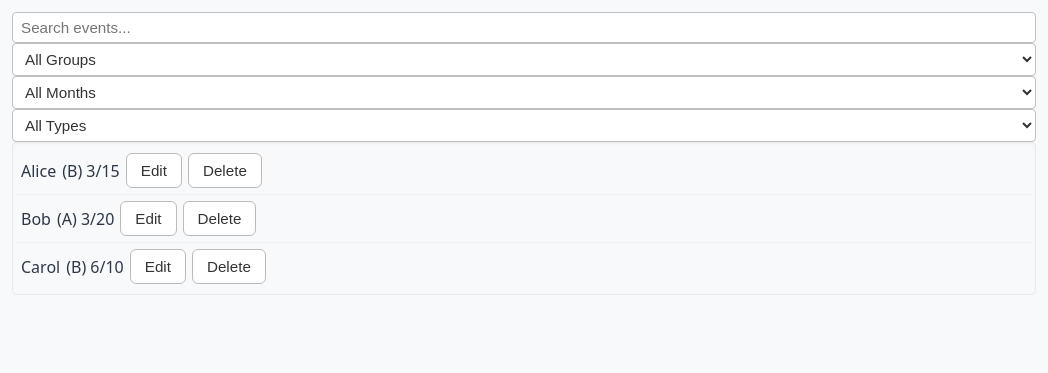
EventList › edit button opens inline editor
What coordinates should you click on to do the following:
click the button "Edit" next to "(B) 3/15"
I would click on:
 (154, 170)
Its box is left=126, top=153, right=182, bottom=188.
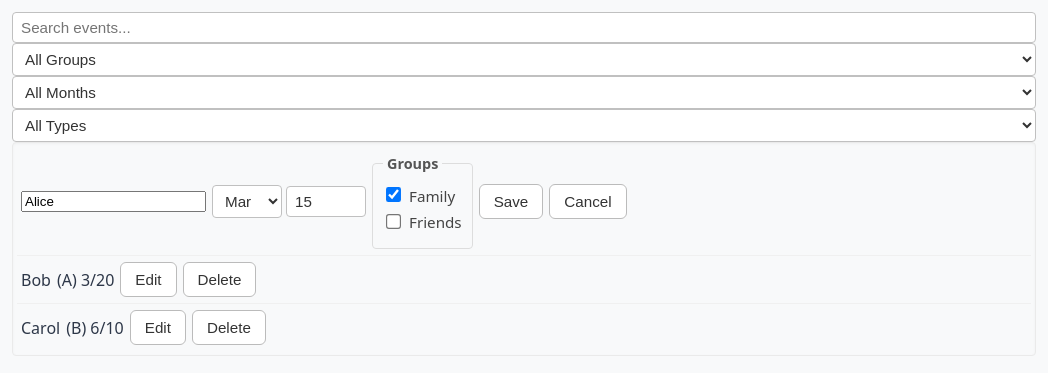
Check: the field showing "Alice" is shown, box left=21, top=191, right=206, bottom=212
